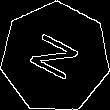N_SE: (24, 28, 86, 87)
